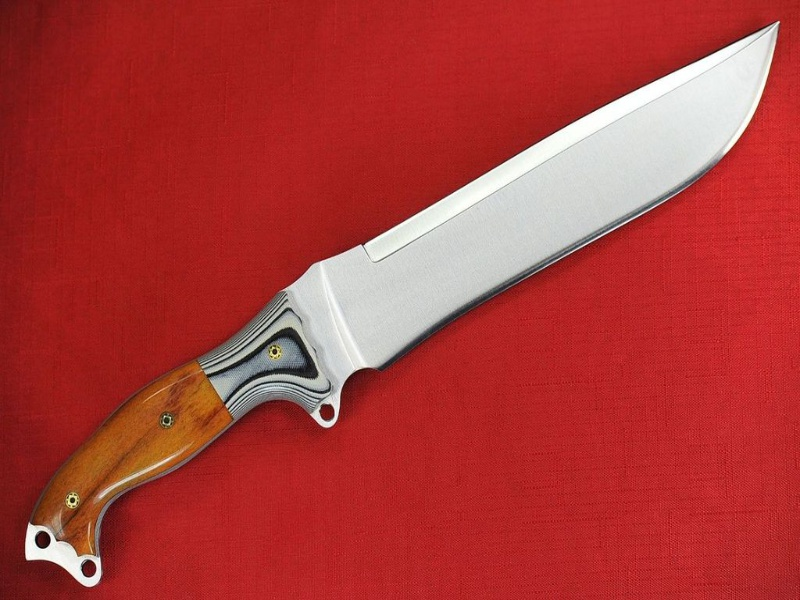knife: (27, 19, 782, 591)
